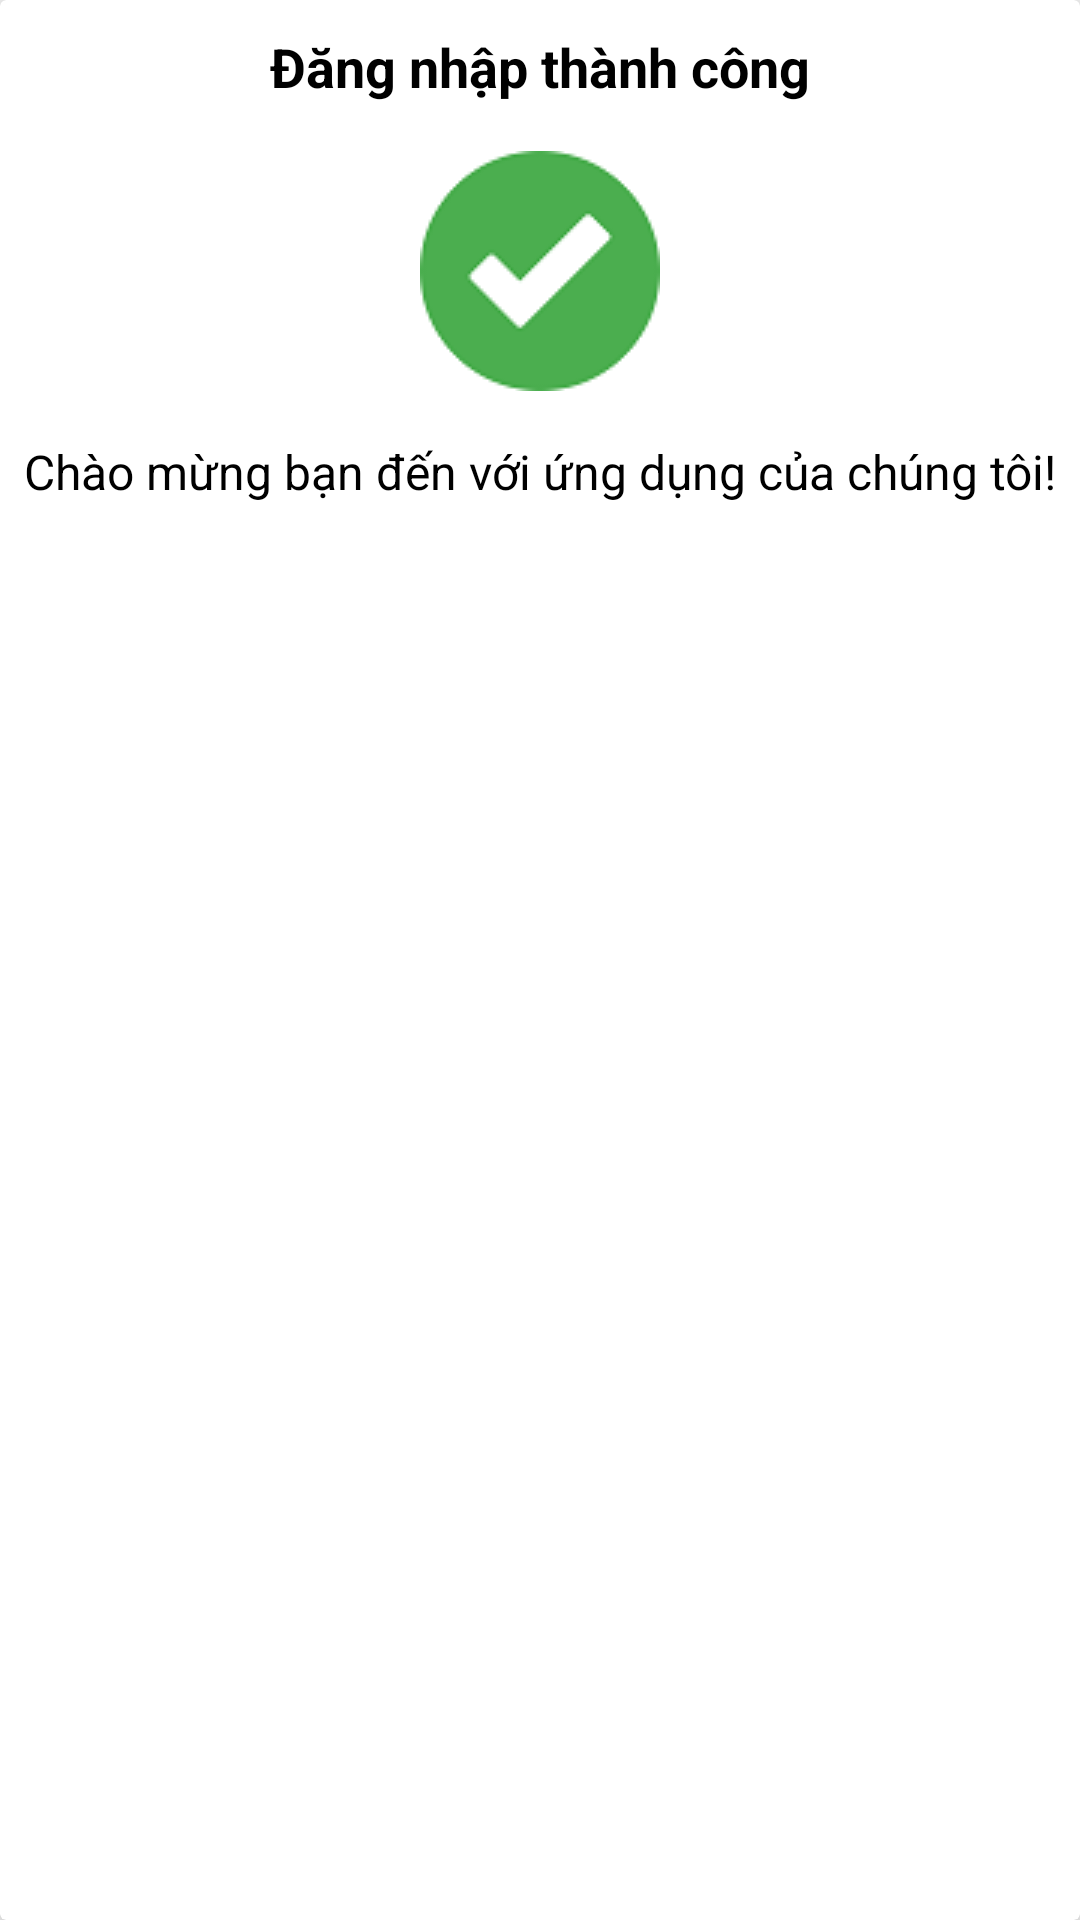

Named icons in this screenshot (1080w x 1920h) and their bounding boxes, region(x1, y1, x2, y2):
accept: region(420, 151, 660, 391)
